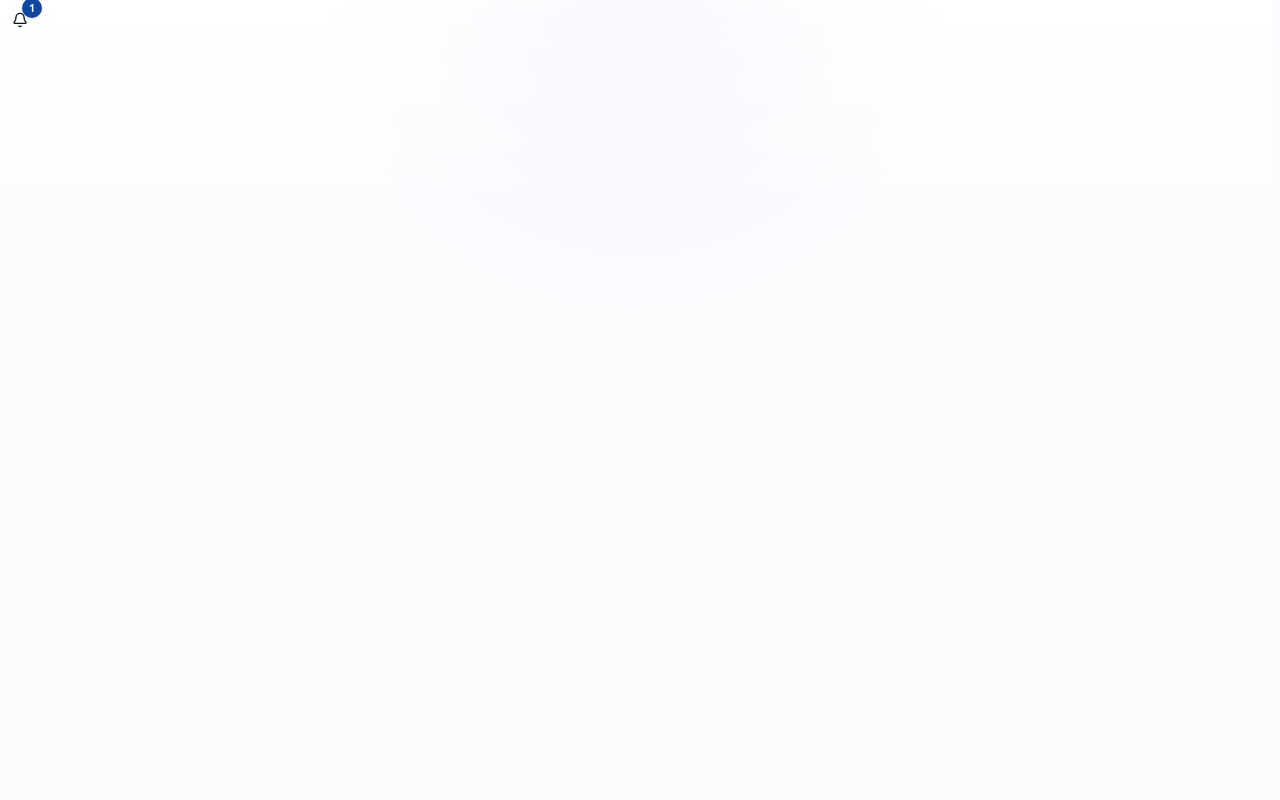
Test: NotificationBell › keeps the notification when bell delete confirmation is cancelled
Press the mouse on the button named "Notifications" at (20, 20), box [0,0,40,40]
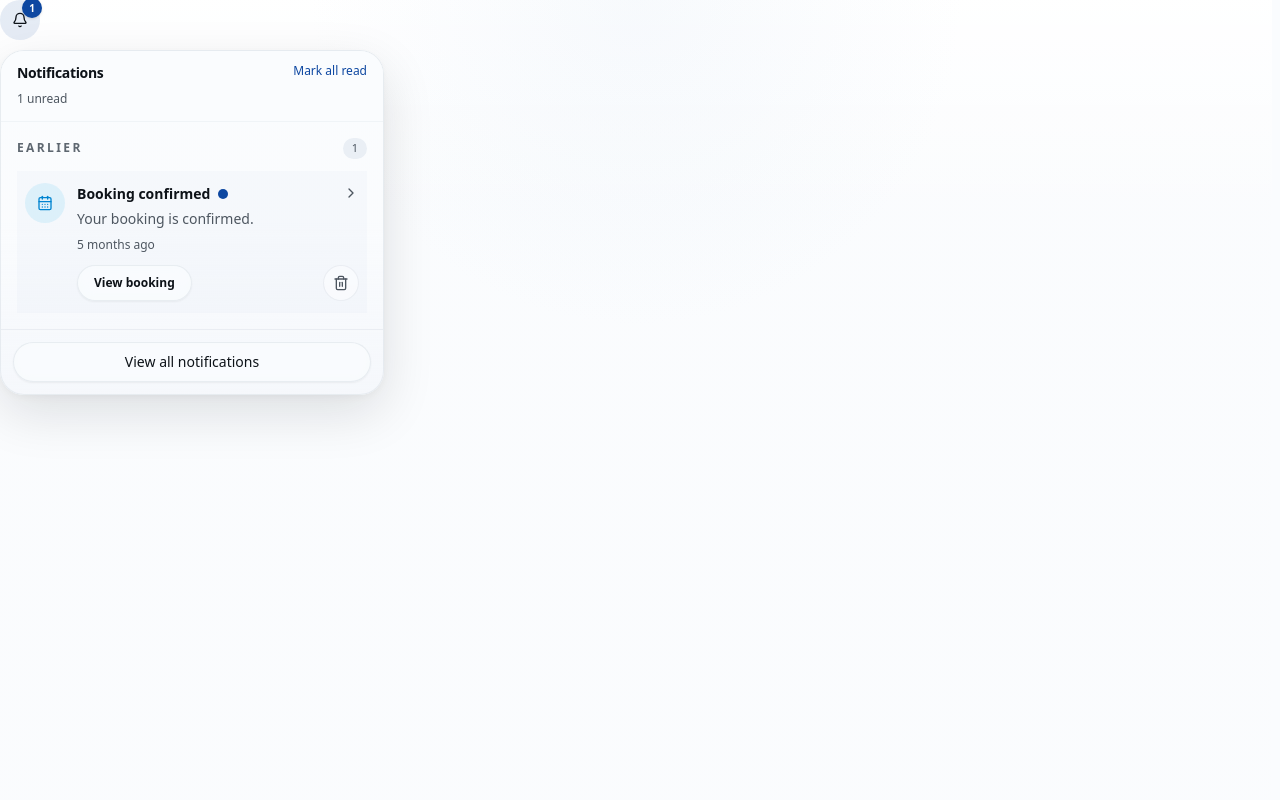
Now the text "Booking confirmed" is shown, box [77,182,210,204]
Click the button named "Delete notification". click: click(341, 282)
box: [323,264,359,300]
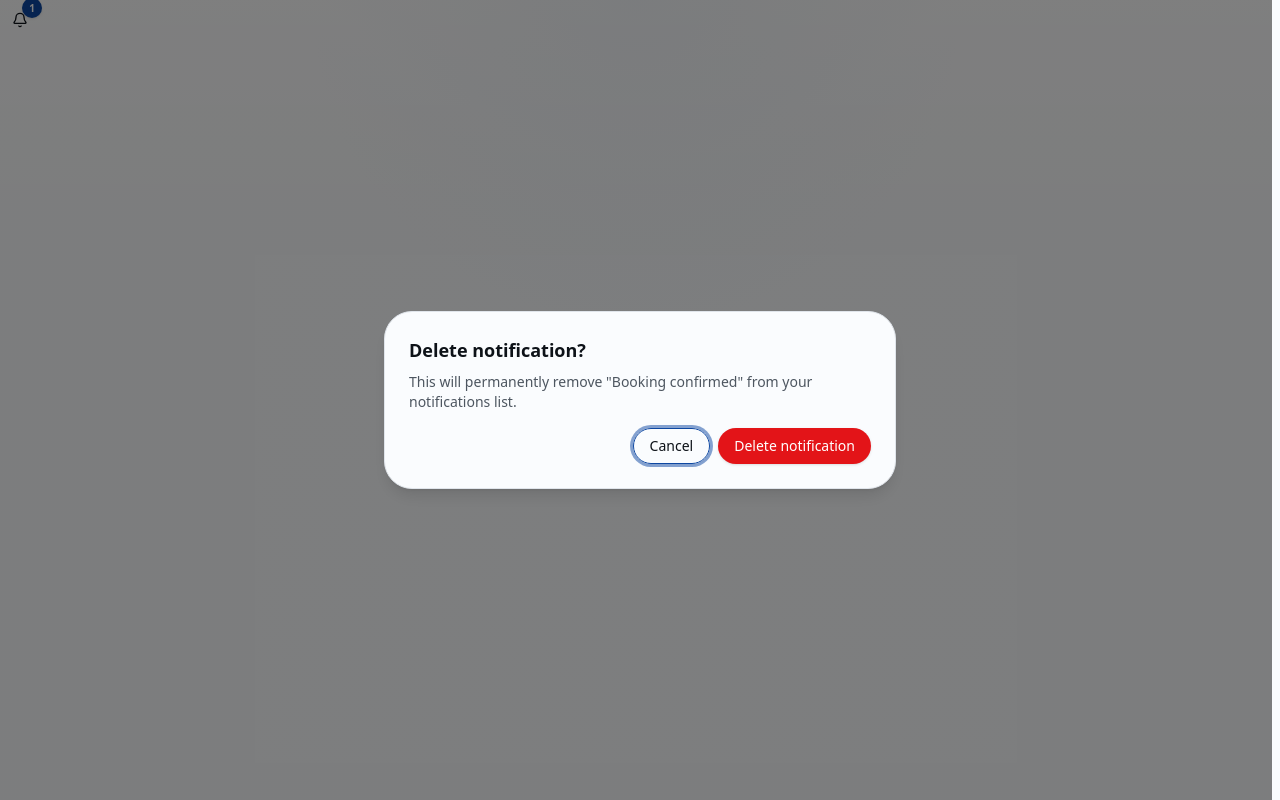
Now the dialog is shown, box [384,311,896,489]
Click the button "Cancel". click: click(671, 446)
box: [633,428,710,464]
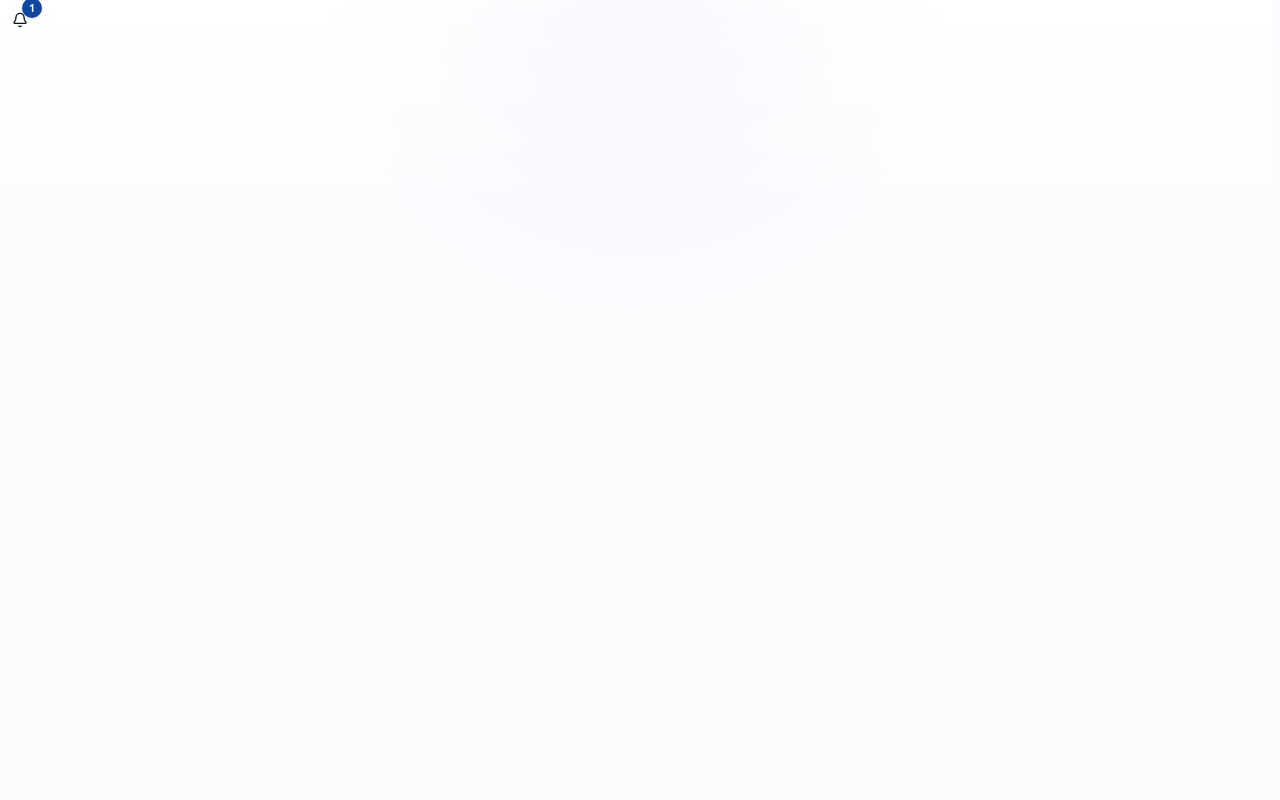
Now the dialog is gone
